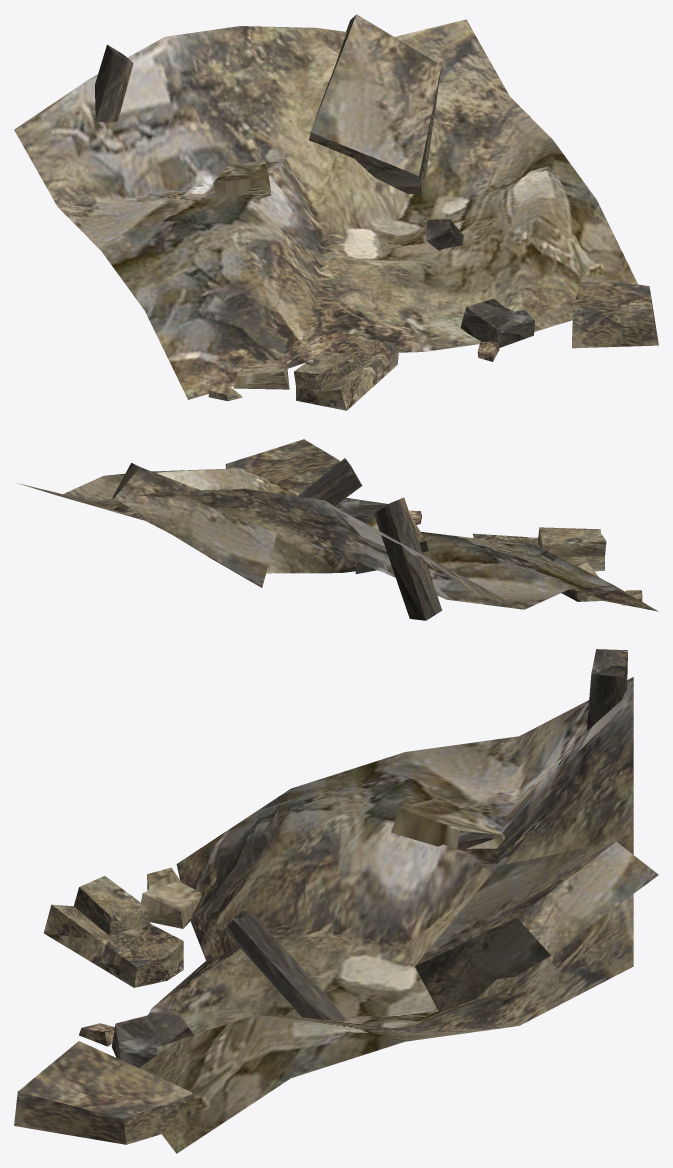
The model's file is wdebris1.glb.
3 renders of one model, top to bottom at view 1: azimuth 30°, elevation 25°; view 2: azimuth 150°, elevation 25°; view 3: azimuth 270°, elevation 25°, orthographic. The views are drawn at different scales.
Parts seen in each view (by area): view 1: _wdebris1; view 2: _wdebris1; view 3: _wdebris1.
Part boxes in pixels (x1,y1,x2,y2): _wdebris1: (14,14,658,410); _wdebris1: (17,439,658,620); _wdebris1: (14,649,658,1153).
Size of the model in its own units: 3 by 1.31 by 2.82.
1 material, 1 textured.
